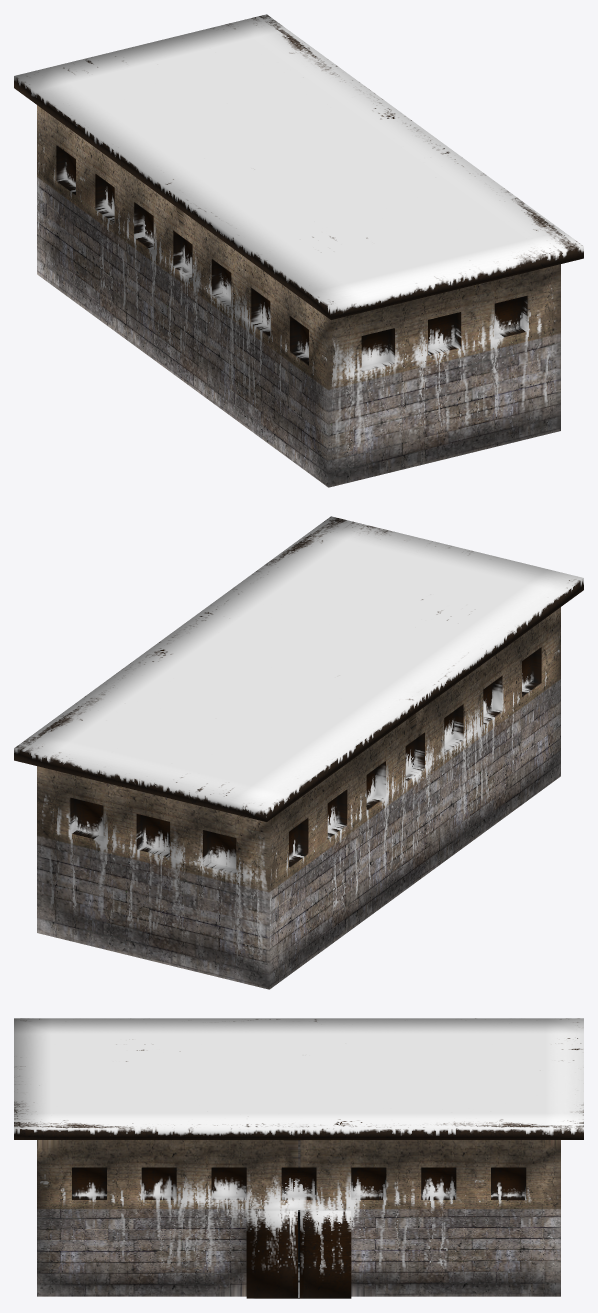
Rendered from barracks.fbx.
3 renders of one model, top to bottom at view 1: azimuth 30°, elevation 25°; view 2: azimuth 150°, elevation 25°; view 3: azimuth 270°, elevation 25°, orthographic. The views are drawn at different scales.
Parts seen in each view (by area): view 1: Box009; view 2: Box009; view 3: Box009.
Part boxes in pixels (x1=…): Box009: x1=14, y1=14, x2=583, y2=487; Box009: x1=14, y1=516, x2=583, y2=989; Box009: x1=14, y1=1018, x2=583, y2=1298.
Size of the model in its own units: 242 by 175 by 526.
